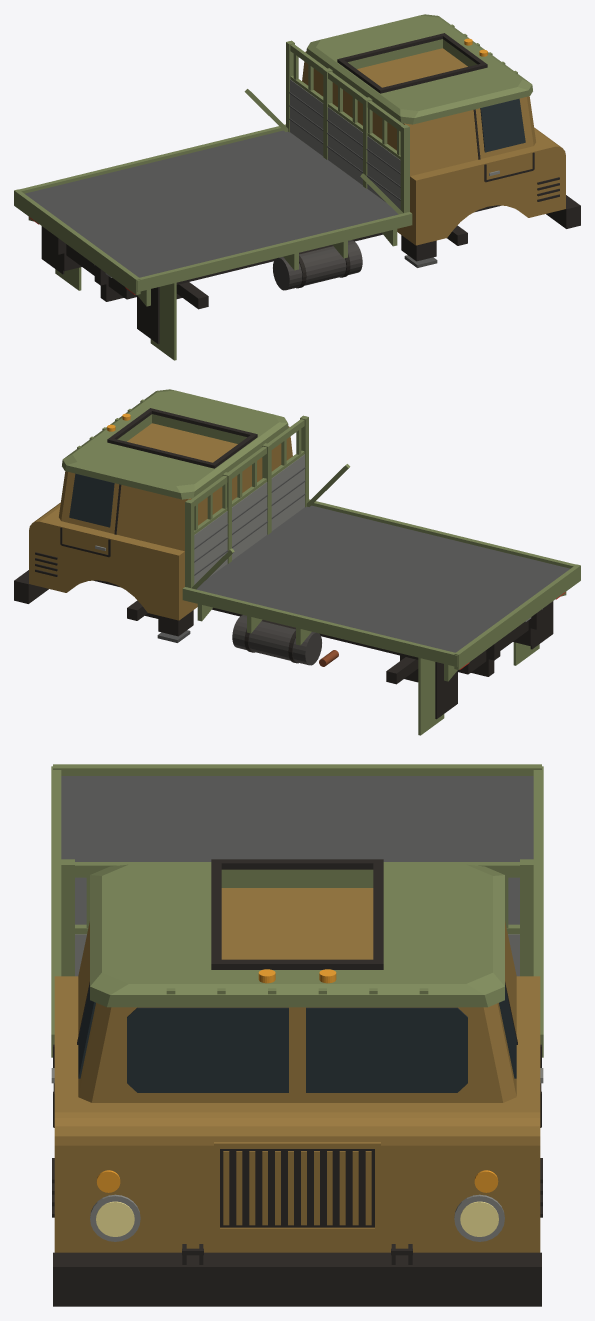
File: base_hauler.glb
The picture shows the model from 3 angles, top to bottom: view 1: azimuth 30°, elevation 25°; view 2: azimuth 150°, elevation 25°; view 3: azimuth 270°, elevation 25°; orthographic projection. The views are drawn at different scales.
Visible parts, largest first — view 1: base_hauler; view 2: base_hauler; view 3: base_hauler.
Boxes of the visible parts, box(x1,y1,x2,y2) form: base_hauler: box(14, 14, 580, 360); base_hauler: box(14, 389, 580, 735); base_hauler: box(51, 764, 543, 1306).
Bounding box in the file's own units: 6.09 × 2.4 × 2.92.
